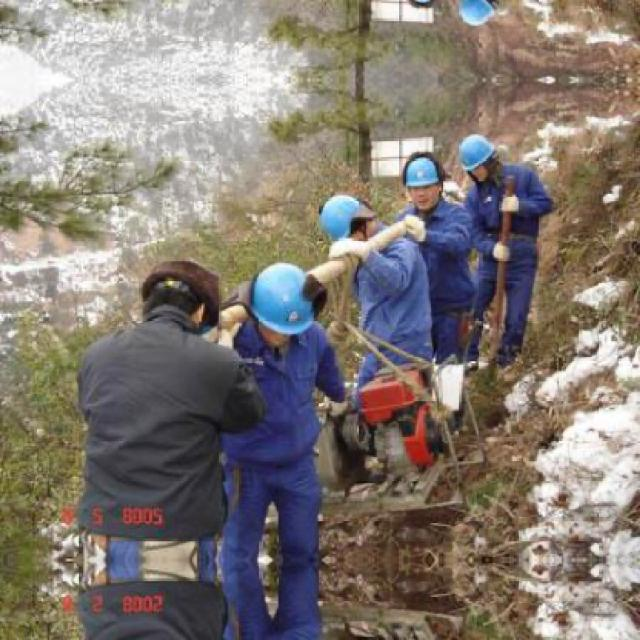con casco: (209, 230, 370, 344), (409, 108, 520, 188), (295, 193, 399, 250), (373, 139, 455, 202)
